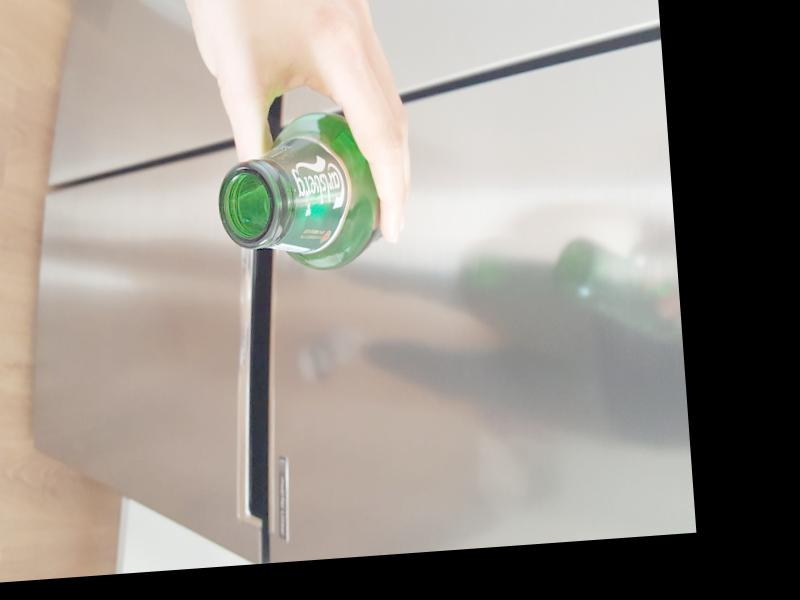Beer: (212, 112, 384, 276)
